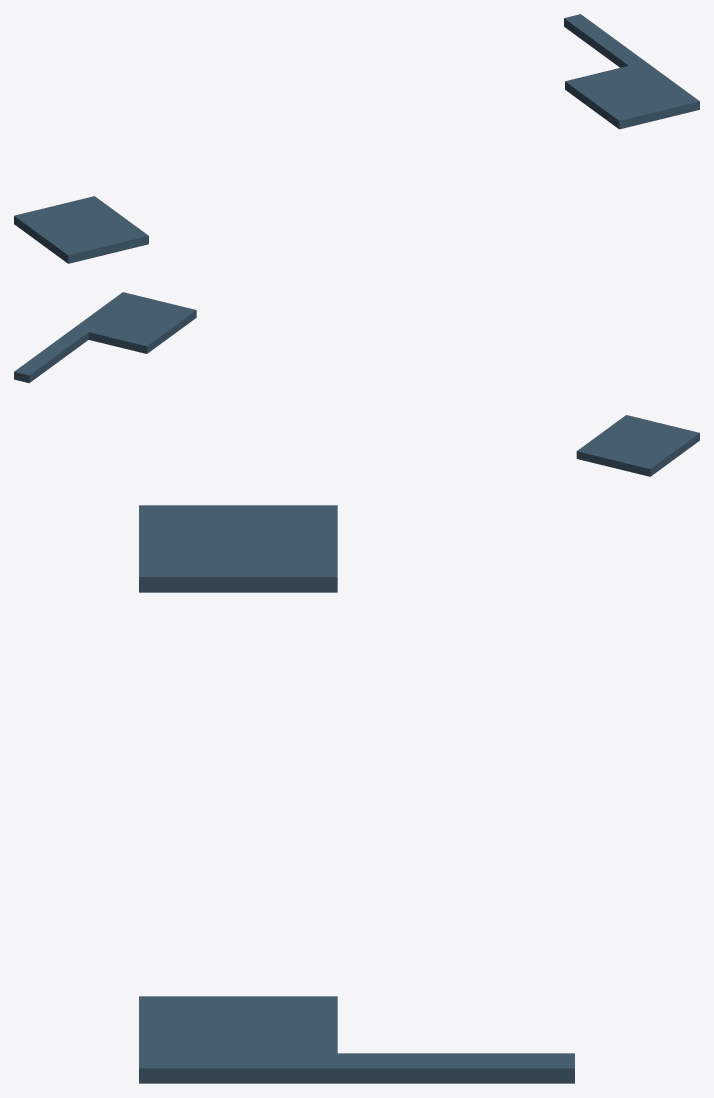
The model's file is v02-01-07-deck.glb.
3 renders of one model, top to bottom at view 1: azimuth 30°, elevation 25°; view 2: azimuth 150°, elevation 25°; view 3: azimuth 270°, elevation 25°, orthographic. The views are drawn at different scales.
Parts seen in each view (by area): view 1: v02-01-07-deck; view 2: v02-01-07-deck; view 3: v02-01-07-deck.
Part boxes in pixels (x1,y1,x2,y2): v02-01-07-deck: (14,14,699,263); v02-01-07-deck: (14,292,699,476); v02-01-07-deck: (139,505,574,1083).
Size of the model in its own units: 47 by 0.6 by 15.37.
